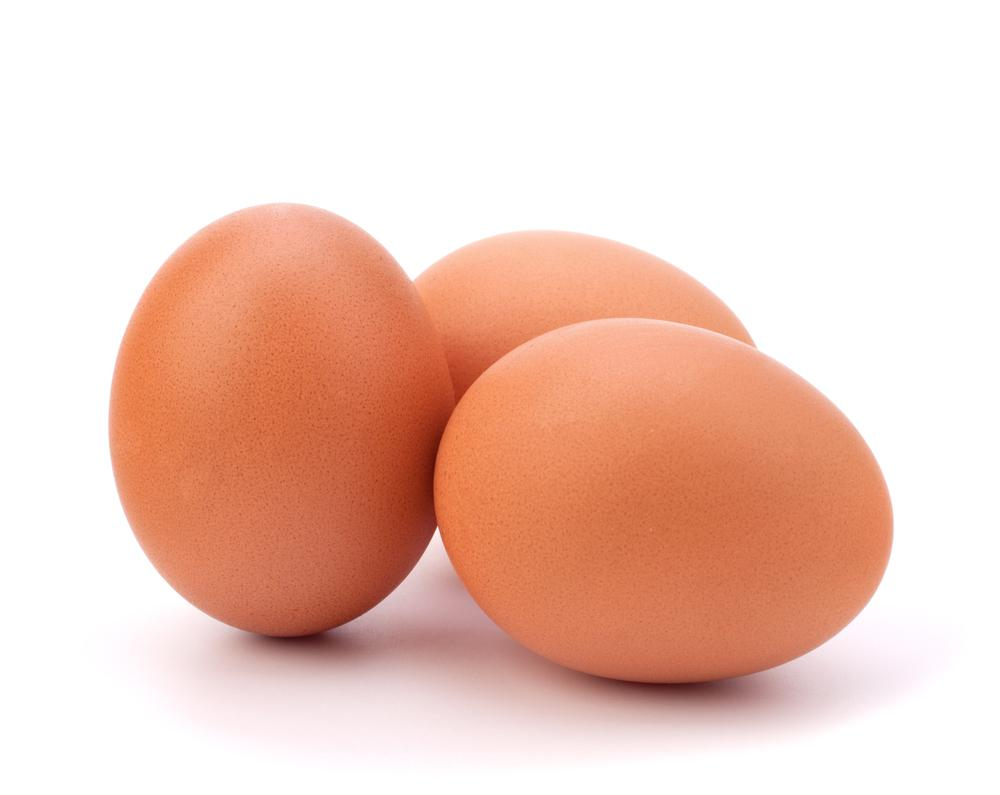egg: (426, 307, 904, 692), (94, 192, 464, 655), (396, 228, 765, 459)
